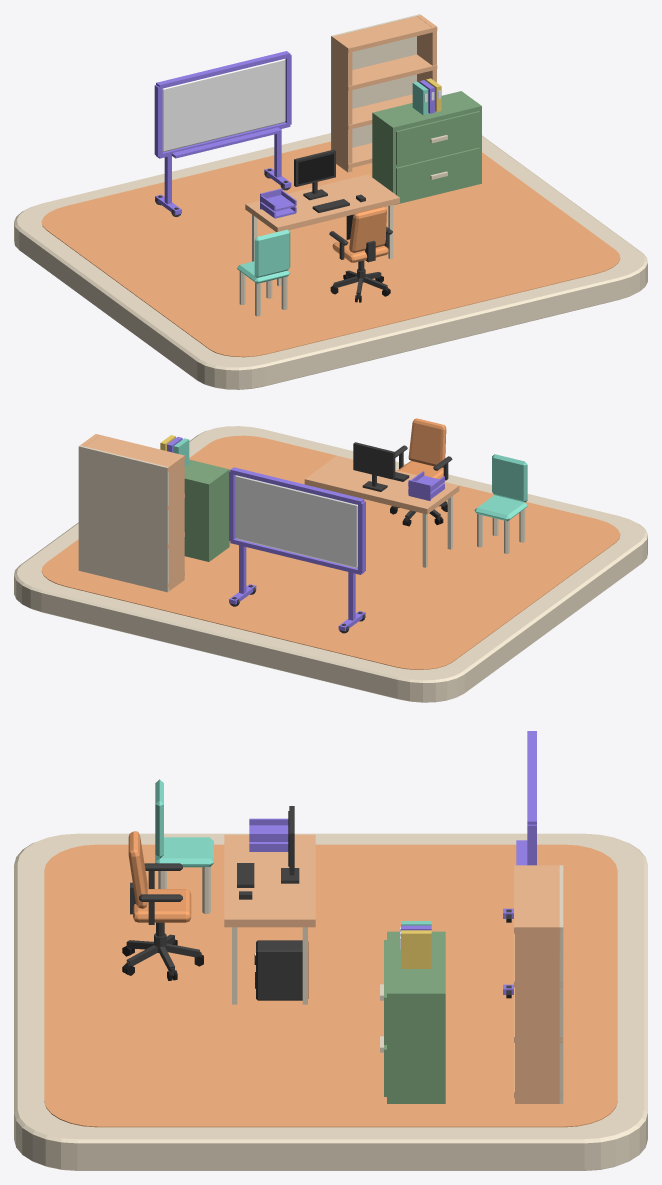
3 views of the same model, one above another, from view 1: azimuth 30°, elevation 25°; view 2: azimuth 150°, elevation 25°; view 3: azimuth 270°, elevation 25° (orthographic). The views are drawn at different scales.
Parts seen in each view (by area): view 1: COM-02 Floor Surface, COM-01 Rounded Base Direct, Cabinet, Writing surface, Top, Back, COM-04_Chair_blender_direct, Side, Shelf.003, Shelf.002, Backrest, Frame (+6 smaller); view 2: COM-02 Floor Surface, COM-01 Rounded Base Direct, Back, Writing surface, Cabinet, Top, COM-04_Chair_blender_direct, Side, Backrest, Frame, Shelf.003, Frame rail.001 (+3 smaller); view 3: COM-02 Floor Surface, COM-01 Rounded Base Direct, Cabinet, Top, Side.001, COM-04_Chair_blender_direct, Shelf.003, Tower, Seat, File.002, Back, Frame rail.001 (+2 smaller).
Part boxes in pixels (x1=…): COM-02 Floor Surface: x1=41, y1=141, x2=620, y2=357; COM-01 Rounded Base Direct: x1=14, y1=133, x2=647, y2=389; Cabinet: x1=372, y1=91, x2=481, y2=205; Writing surface: x1=162, y1=58, x2=285, y2=152; Top: x1=245, y1=174, x2=399, y2=286; Back: x1=331, y1=14, x2=420, y2=150; COM-04_Chair_blender_direct: x1=329, y1=206, x2=392, y2=302; Side: x1=332, y1=35, x2=352, y2=172; Shelf.003: x1=332, y1=16, x2=437, y2=52; Shelf.002: x1=332, y1=54, x2=437, y2=90; Backrest: x1=254, y1=229, x2=290, y2=277; Frame: x1=294, y1=149, x2=335, y2=200; COM-02 Floor Surface: x1=41, y1=435, x2=620, y2=669; COM-01 Rounded Base Direct: x1=14, y1=426, x2=647, y2=702; Back: x1=78, y1=445, x2=168, y2=592; Writing surface: x1=235, y1=475, x2=357, y2=568; Cabinet: x1=184, y1=459, x2=229, y2=561; Top: x1=304, y1=455, x2=459, y2=567; COM-04_Chair_blender_direct: x1=390, y1=418, x2=452, y2=526; Side: x1=164, y1=454, x2=184, y2=590; Backrest: x1=492, y1=454, x2=527, y2=502; Frame: x1=353, y1=442, x2=395, y2=491; Shelf.003: x1=85, y1=434, x2=184, y2=471; Frame rail.001: x1=230, y1=467, x2=364, y2=505; COM-02 Floor Surface: x1=44, y1=844, x2=617, y2=1127; COM-01 Rounded Base Direct: x1=14, y1=833, x2=647, y2=1170; Cabinet: x1=380, y1=931, x2=445, y2=1103; Top: x1=224, y1=834, x2=315, y2=1004; Side.001: x1=515, y1=924, x2=561, y2=1103; COM-04_Chair_blender_direct: x1=122, y1=831, x2=203, y2=980; Shelf.003: x1=514, y1=865, x2=562, y2=933; Tower: x1=256, y1=940, x2=308, y2=1000; Seat: x1=155, y1=837, x2=213, y2=867; File.002: x1=401, y1=930, x2=431, y2=968; Back: x1=559, y1=865, x2=563, y2=1103; Frame rail.001: x1=527, y1=731, x2=536, y2=824.
Size of the model in its own units: 6 by 1.96 by 5.2.
Materials: 1 (1 with a texture image).
